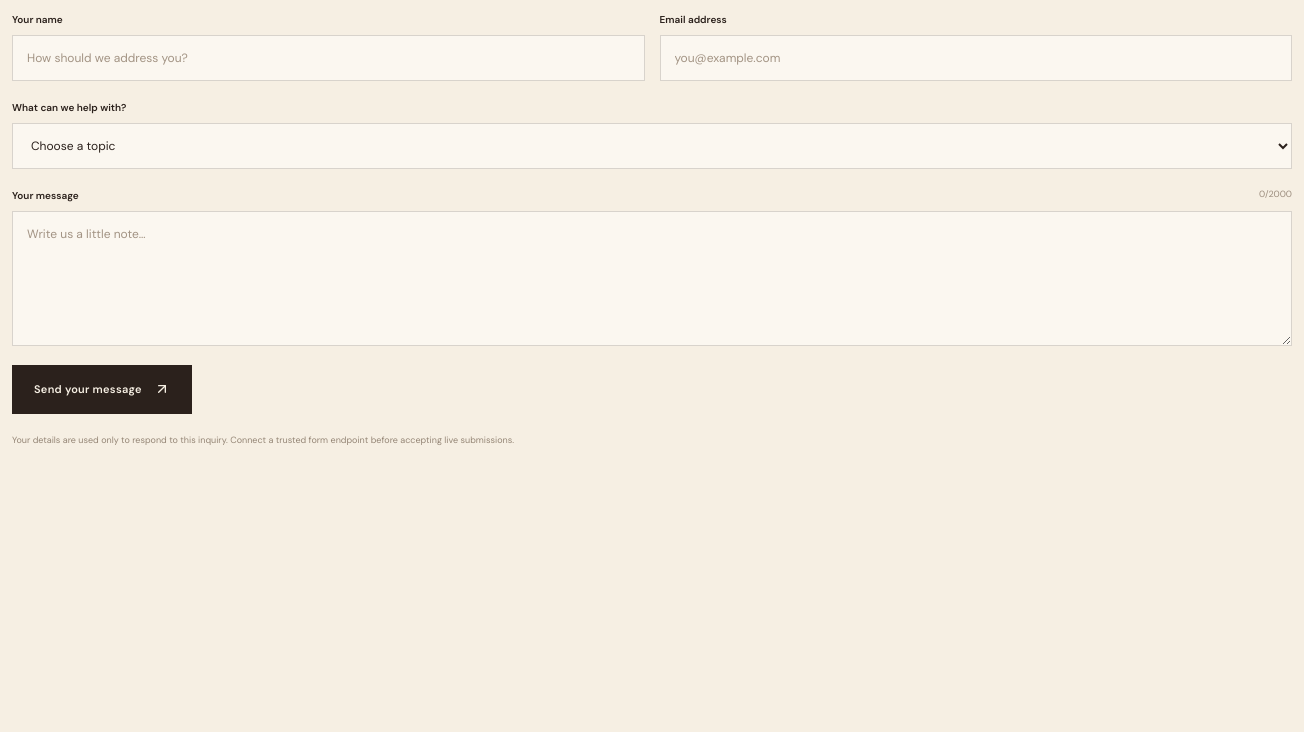
Test: contact form › does not show a false success when no submission endpoint is configured
Type "Sam" into the field labelled "Your name" at (328, 58), box 12,35 -> 644,81
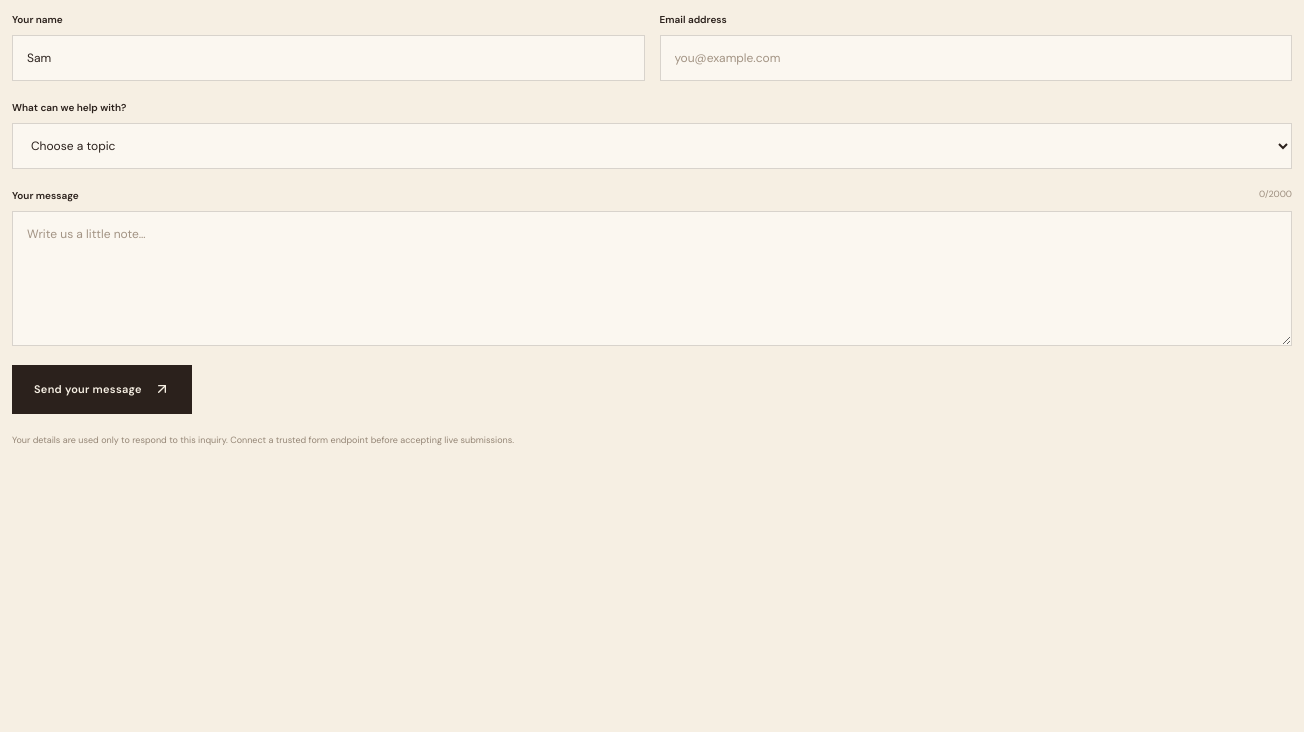
Type "sam@example.com" into the field labelled "Email address" at (976, 58), box 660,35 -> 1292,81
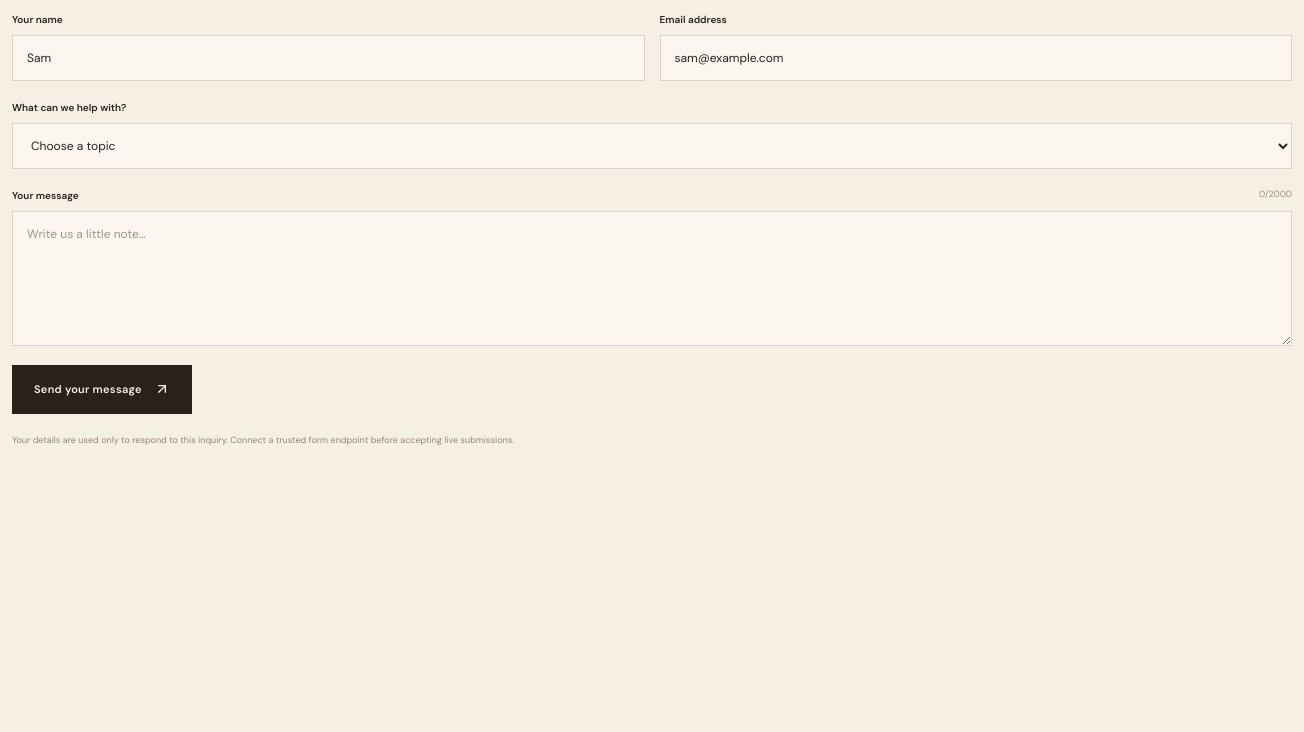
Select "Menu question" in the dropdown labelled "What can we help with?" at (652, 146), box 12,123 -> 1292,169
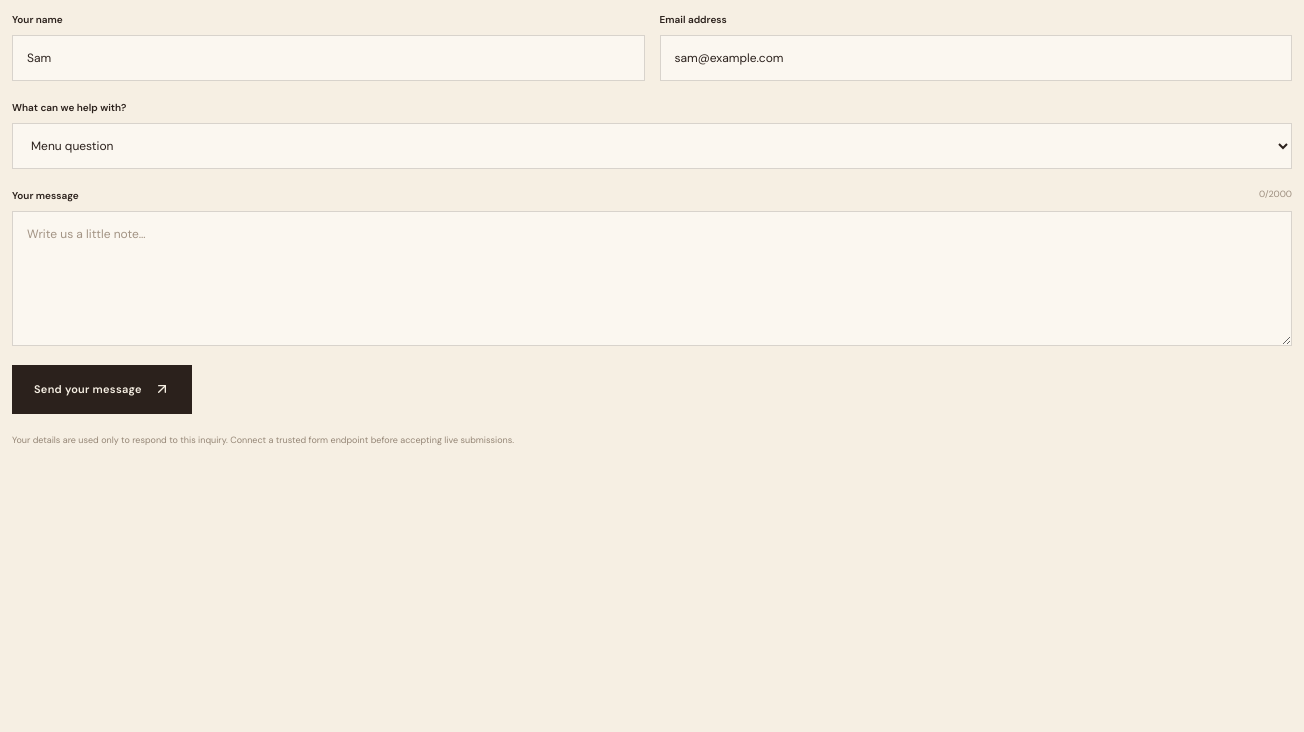
Type "Can you tell me about your coffee menu?" into the text box labelled "Your message" at (652, 278), box 12,211 -> 1292,346
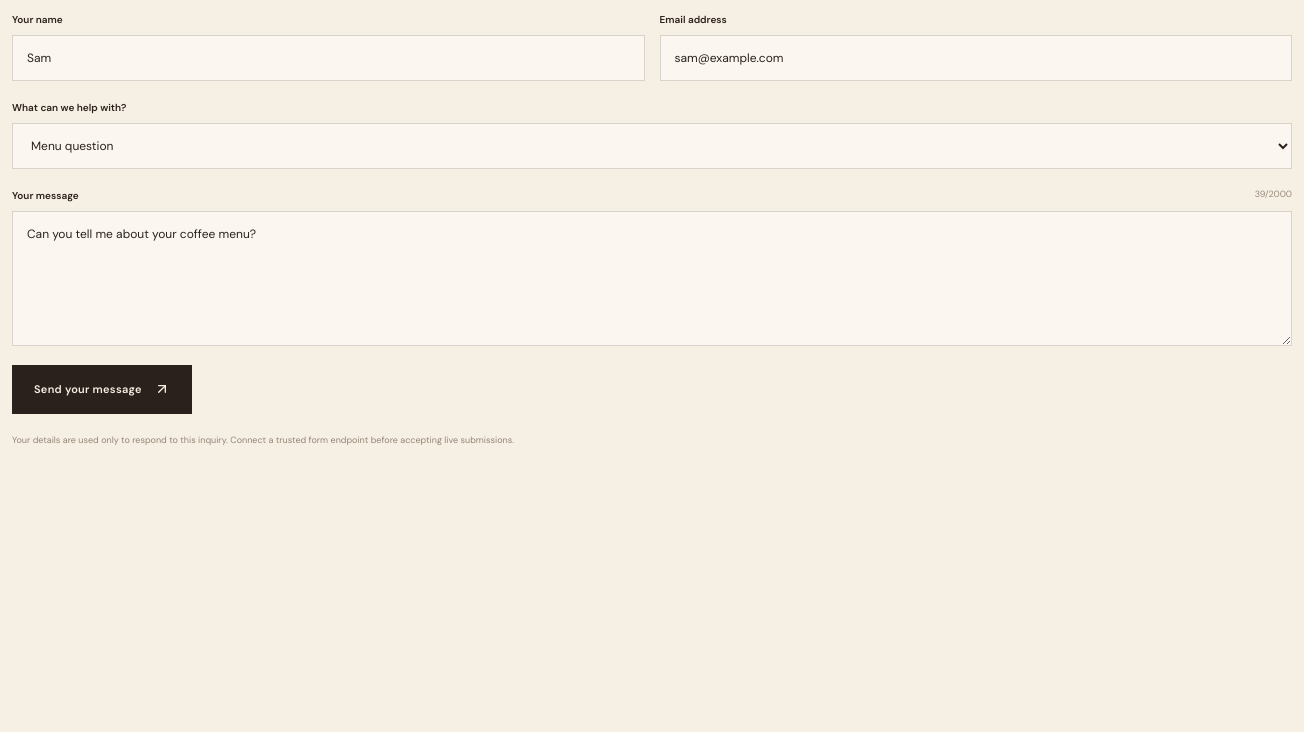
Click the button "Send your message" at (102, 389), box 12,365 -> 192,414
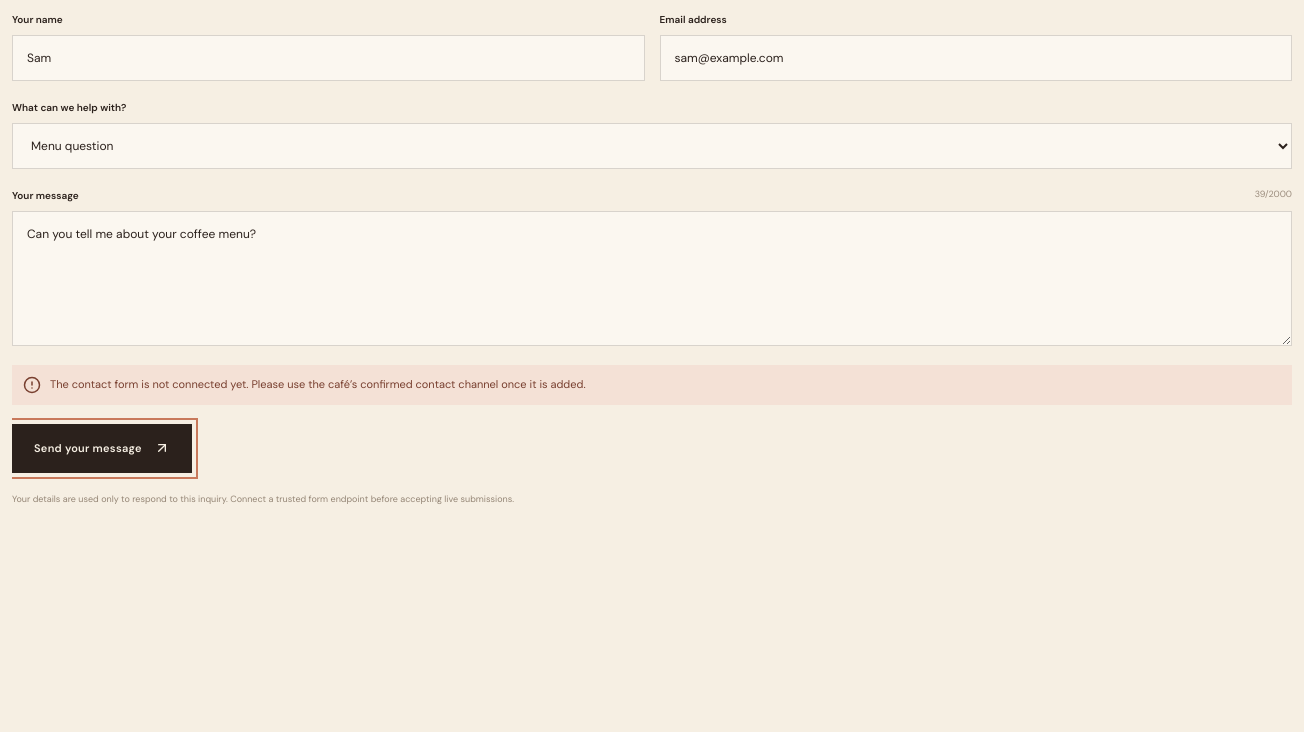
expect the message shows "not connected yet": met, box 50,377 -> 586,391
